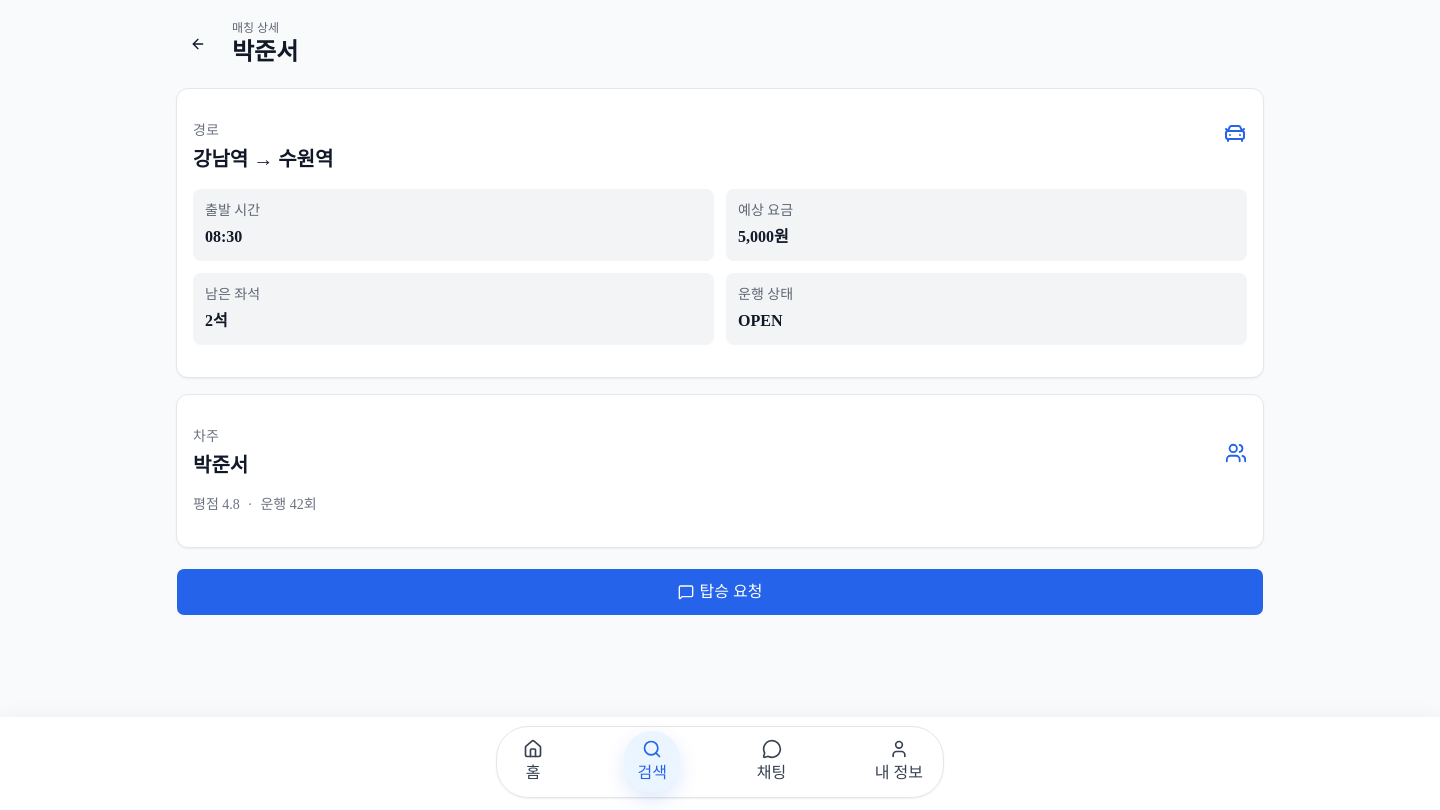
매칭 상세 화면 › 탑승 요청 실패 시 에러 상태를 표시한다
The image size is (1440, 810).
Click the button "탑승 요청" at (720, 592), box [176,568,1264,616]
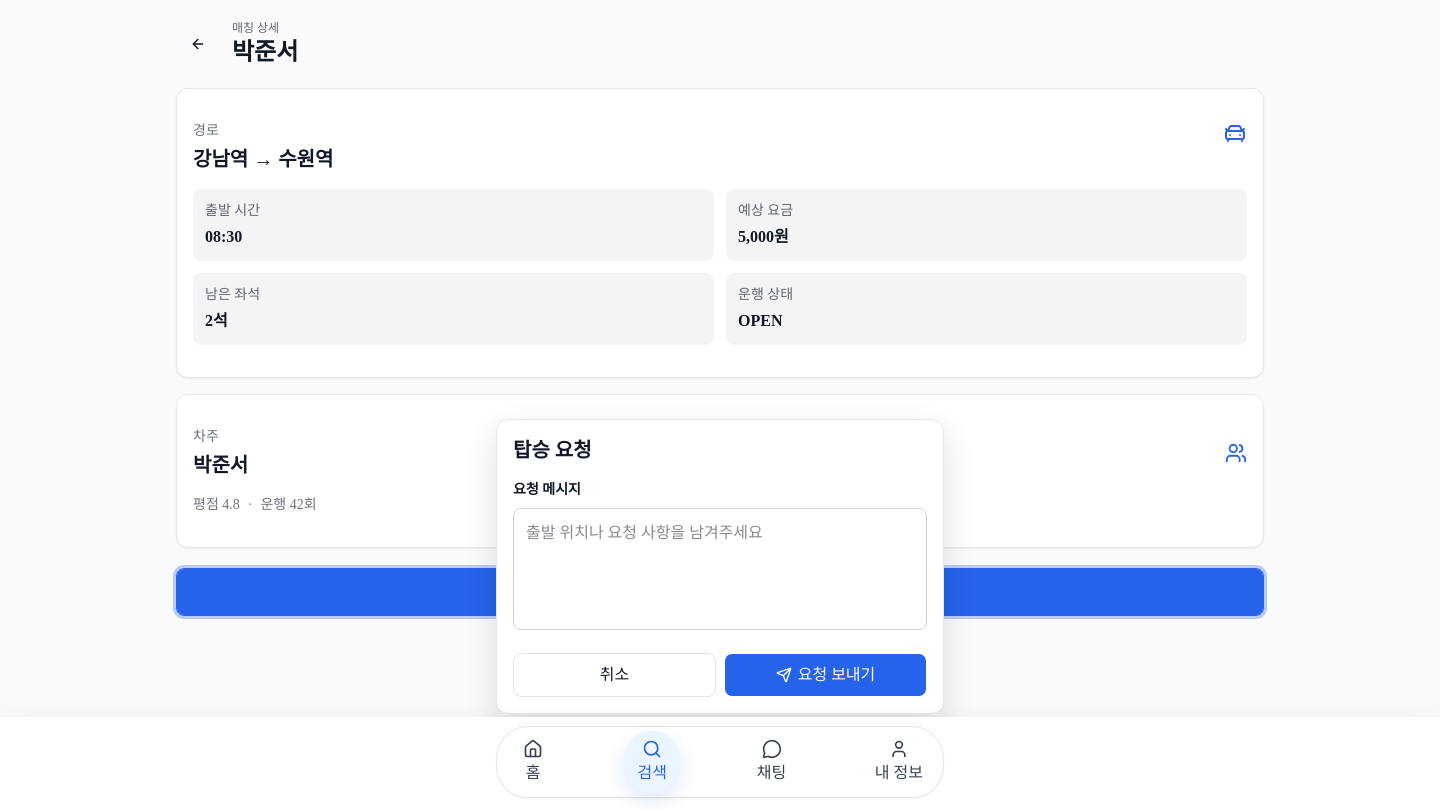
Click the button "요청 보내기" at (826, 675), box [724,653,927,697]
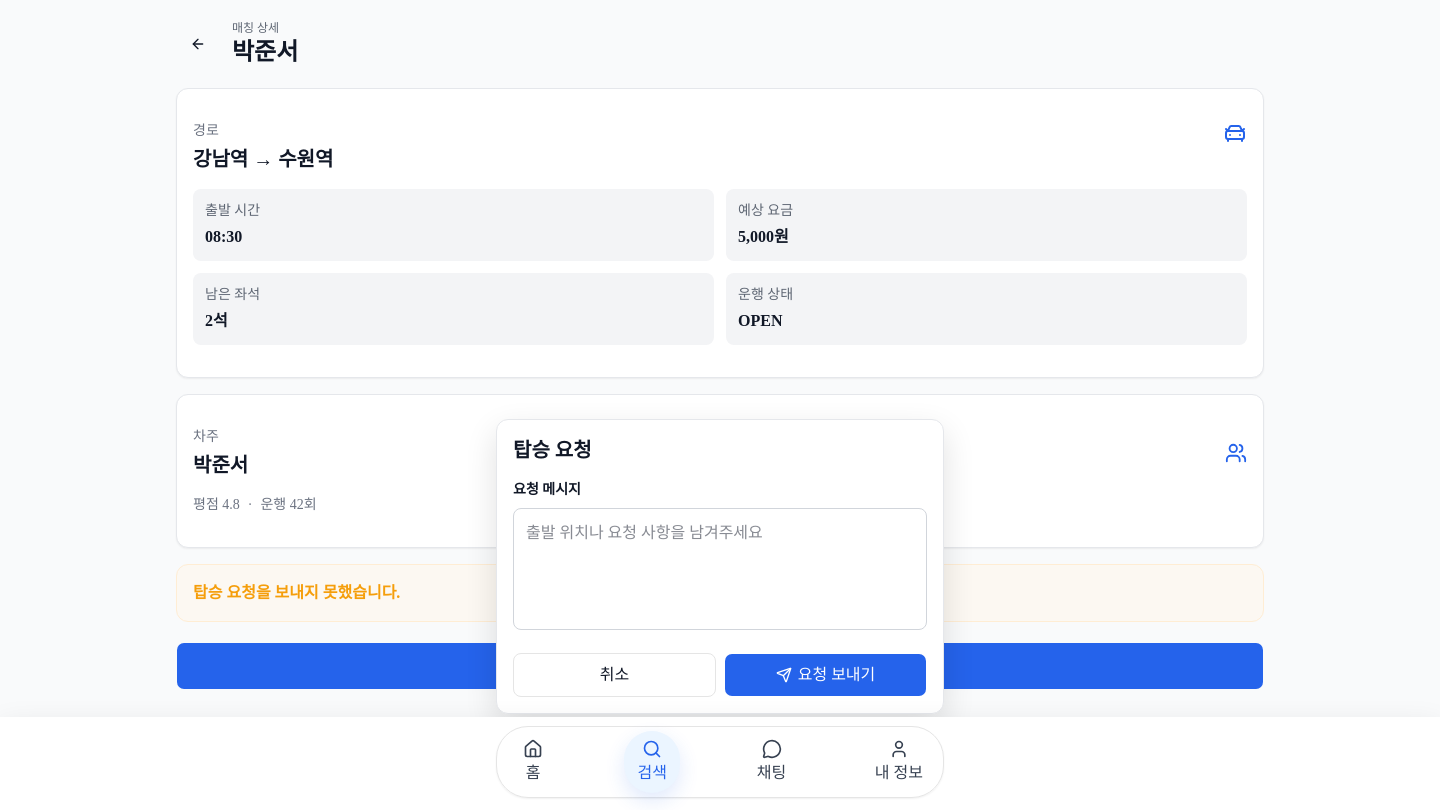
Expected: the text "탑승 요청을 보내지 못했습니다." is shown, [176,564,1264,622]
